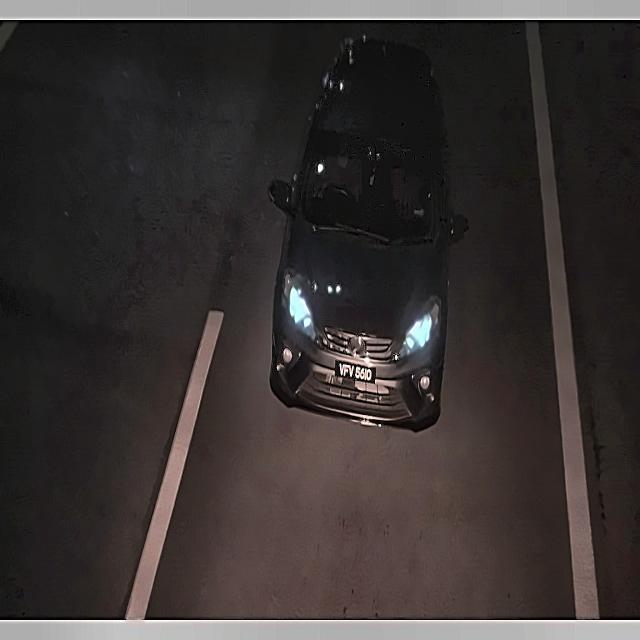car: (333, 349, 377, 394)
